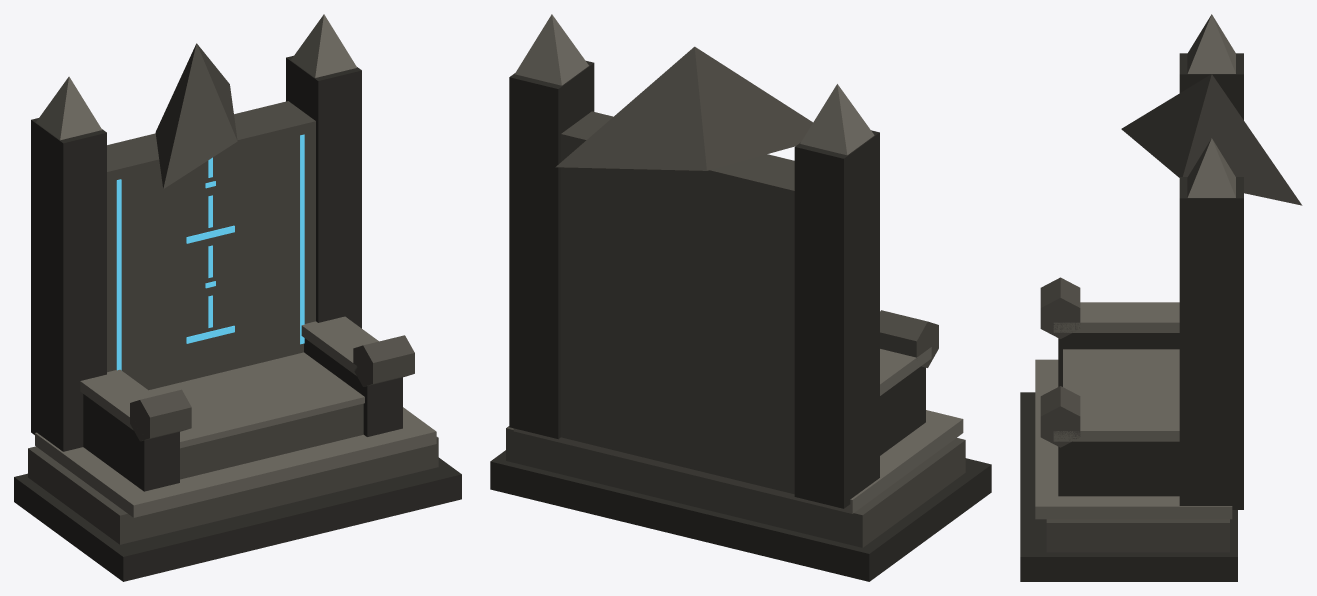
File: dk_throne.glb
3 views of the same model, side by side, from view 1: azimuth 30°, elevation 25°; view 2: azimuth 150°, elevation 25°; view 3: azimuth 270°, elevation 25° (orthographic). The views are drawn at different scales.
Visible parts, largest first — view 1: dk_throne; view 2: dk_throne; view 3: dk_throne.
Part boxes in pixels (bbox=[...]): dk_throne: bbox=[14, 14, 461, 581]; dk_throne: bbox=[490, 14, 991, 581]; dk_throne: bbox=[1020, 14, 1302, 581].
Bounding box in the file's own units: 17 × 20.5 × 12.31.
Materials: 2 (2 with a texture image).
